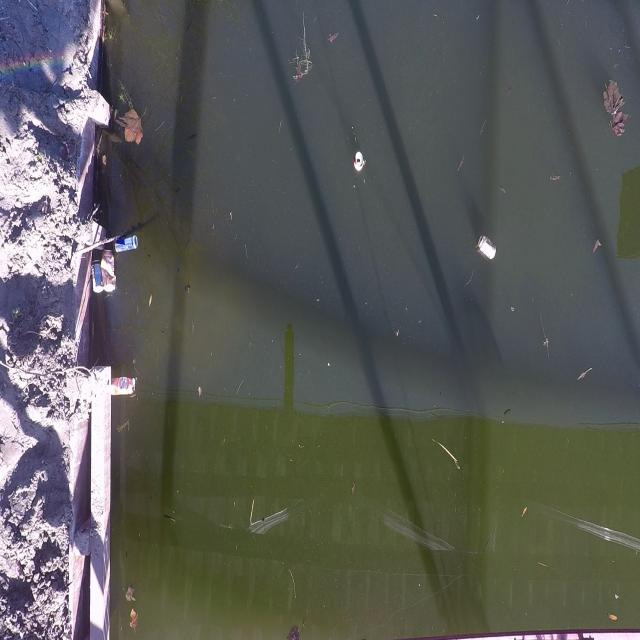Non plastique: (475, 224, 501, 267), (110, 374, 138, 401), (102, 247, 116, 300), (111, 233, 141, 254), (91, 255, 104, 302), (352, 151, 371, 180)
